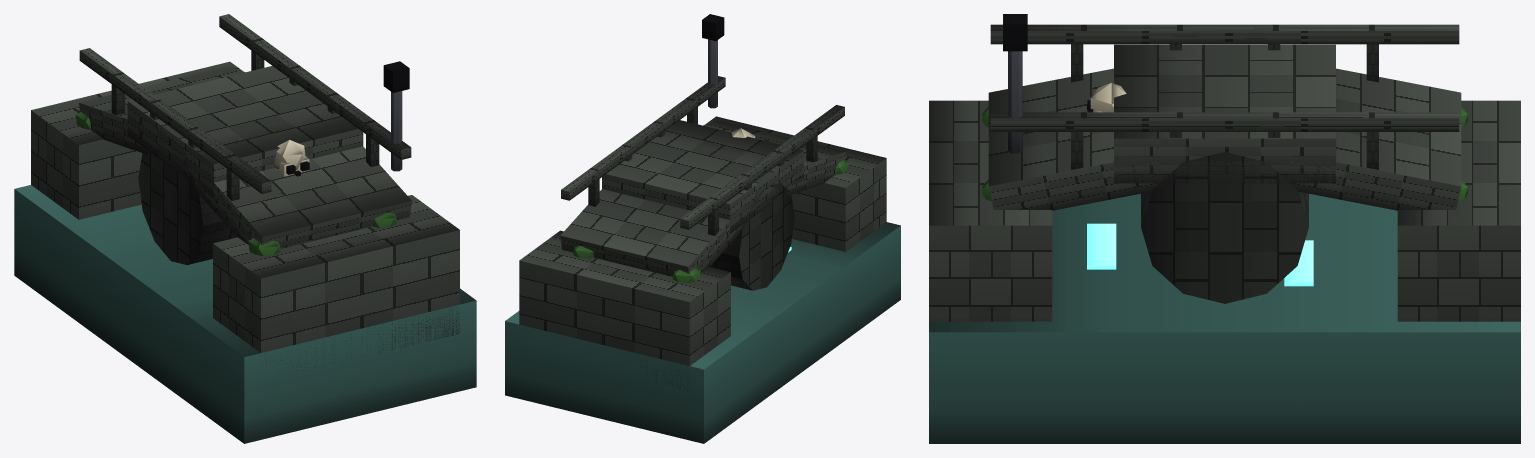
The model's file is canal_bridge.glb.
The picture shows the model from 3 angles, left to right: view 1: azimuth 30°, elevation 25°; view 2: azimuth 150°, elevation 25°; view 3: azimuth 270°, elevation 25°; orthographic projection. The views are drawn at different scales.
Parts seen in each view (by area): view 1: canal_bridge; view 2: canal_bridge; view 3: canal_bridge.
Boxes of the visible parts, x1,y1,x2,y2 form: canal_bridge: (14,14,476,443); canal_bridge: (505,14,900,443); canal_bridge: (929,14,1520,443).
Size of the model in its own units: 1.4 by 1.77 by 2.4.
1 material, 1 textured.
